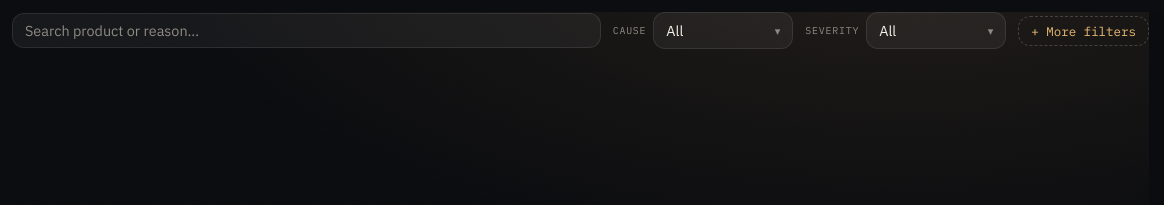
it: RecallFilters › gets the EU facet set: no class, no source, no company, an affected-country filter
The width and height of the screenshot is (1164, 205).
Click the button "+ More filters": x=1084, y=30 [1018,16,1149,46]
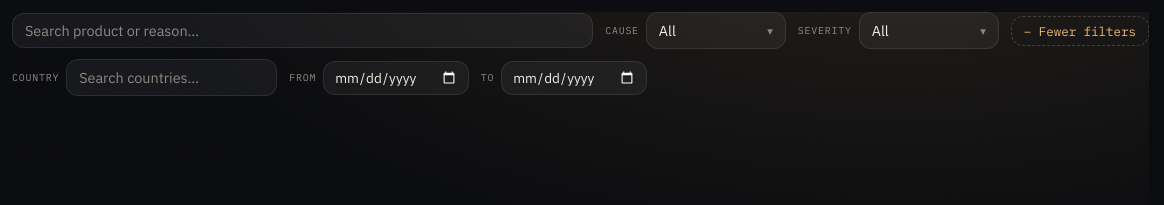
The affected-country combobox renders ISO codes as country names.
Click the dropdown named "Affected country": x=172, y=78 [66,59,277,96]
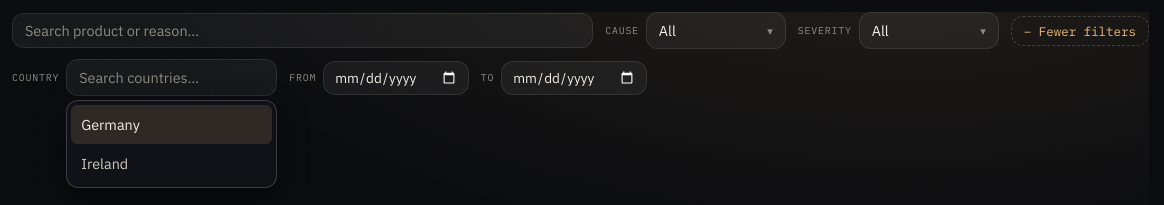
Expected: the text "Germany" is shown, [81,113,140,136]
Expected: the text "Ireland" is shown, [81,152,128,175]
